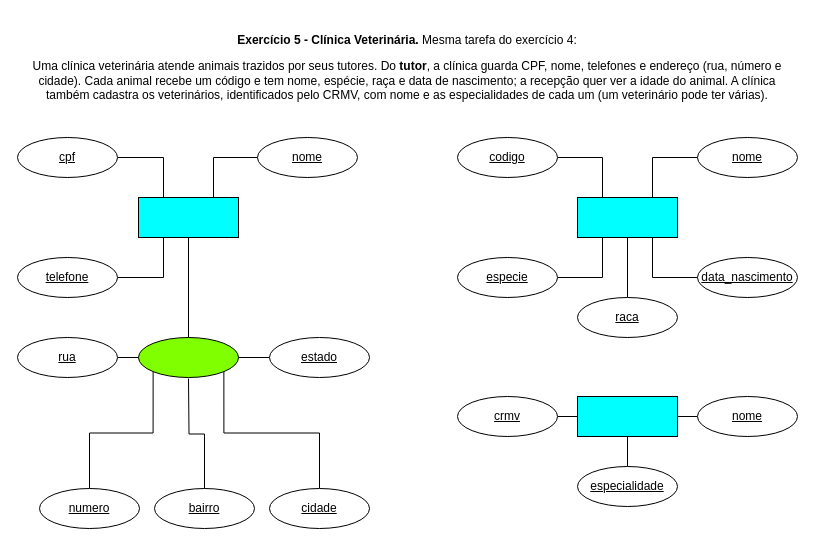
This 815x546 diagram has some shape labels left out. The shapes that lost their labels are listed below. From the top down, each one's centre as x and y in pixels, then its label:
At pixel 188 217: "TUTOR".
At pixel 627 217: "ANIMAL".
At pixel 188 357: "endereco".
At pixel 627 416: "VETERINARIO".
